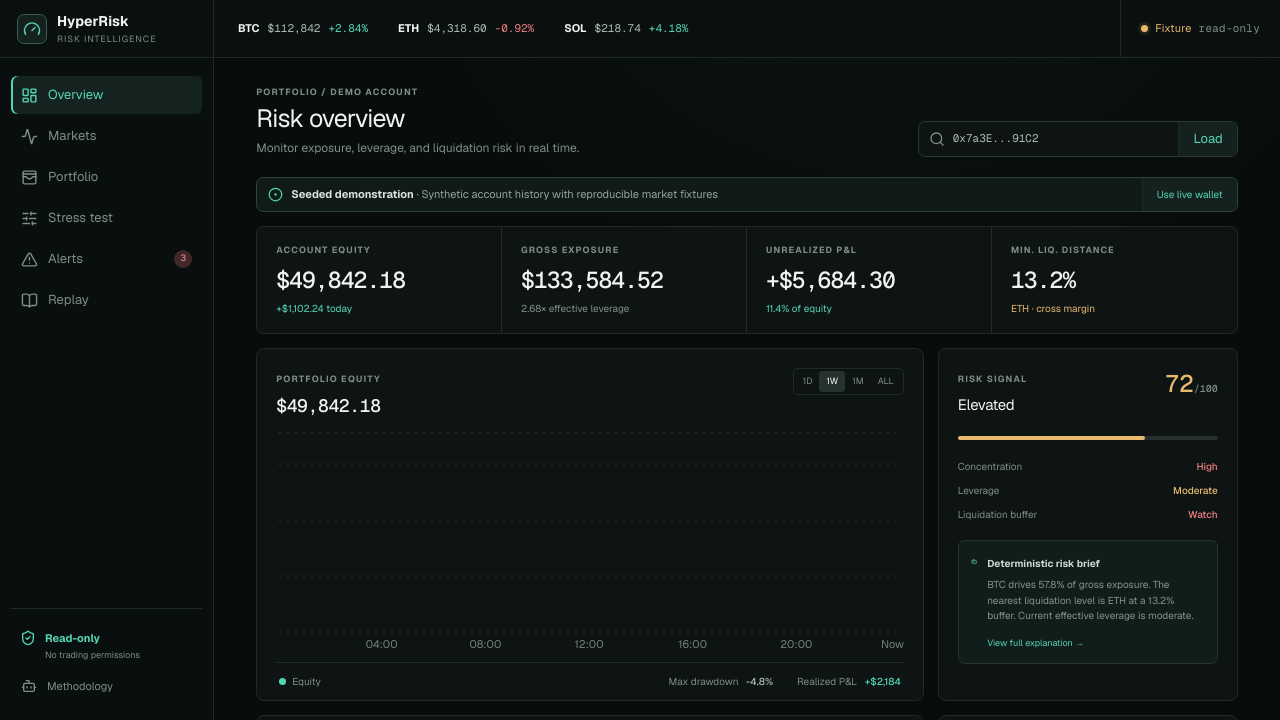
Test: HyperRisk demo workflow › plays the deterministic replay fixture
Click the button "Replay": (106, 300) [11, 281, 202, 319]
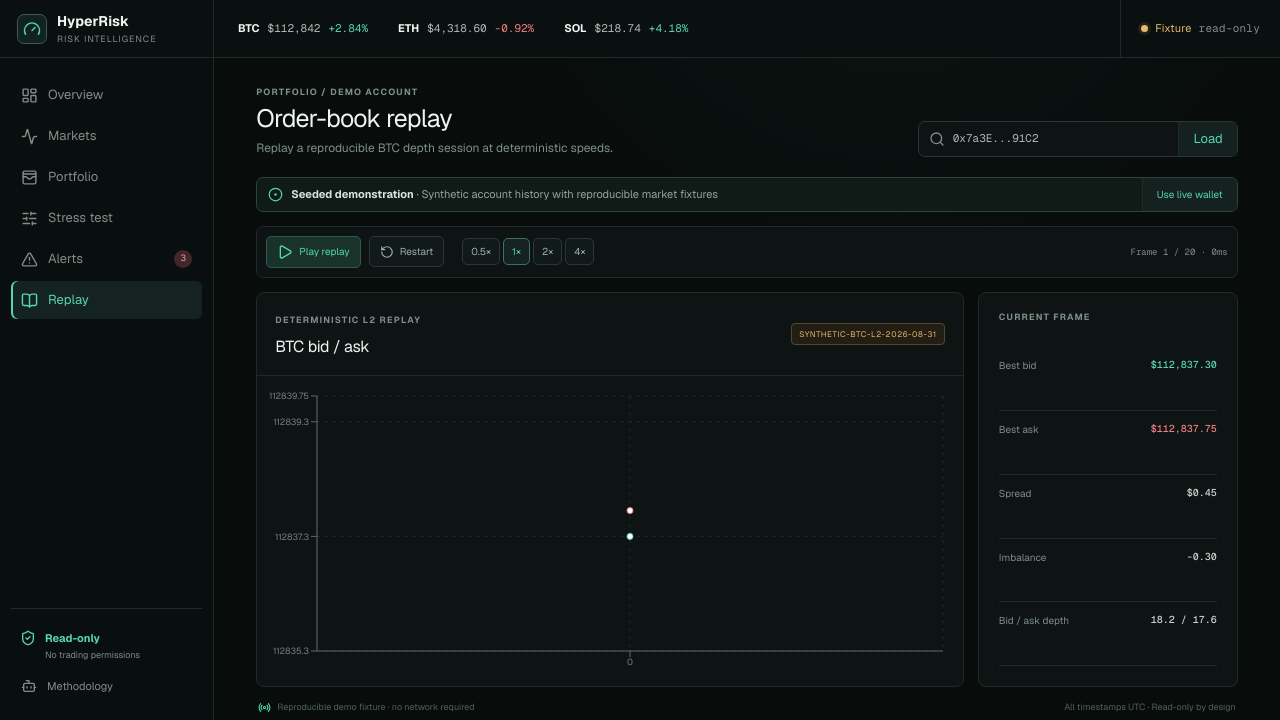
Expected: the text "synthetic-btc-l2-2026-08-31" is shown, [791, 323, 945, 345]
Click the button "Play replay": (313, 252) [266, 236, 361, 268]
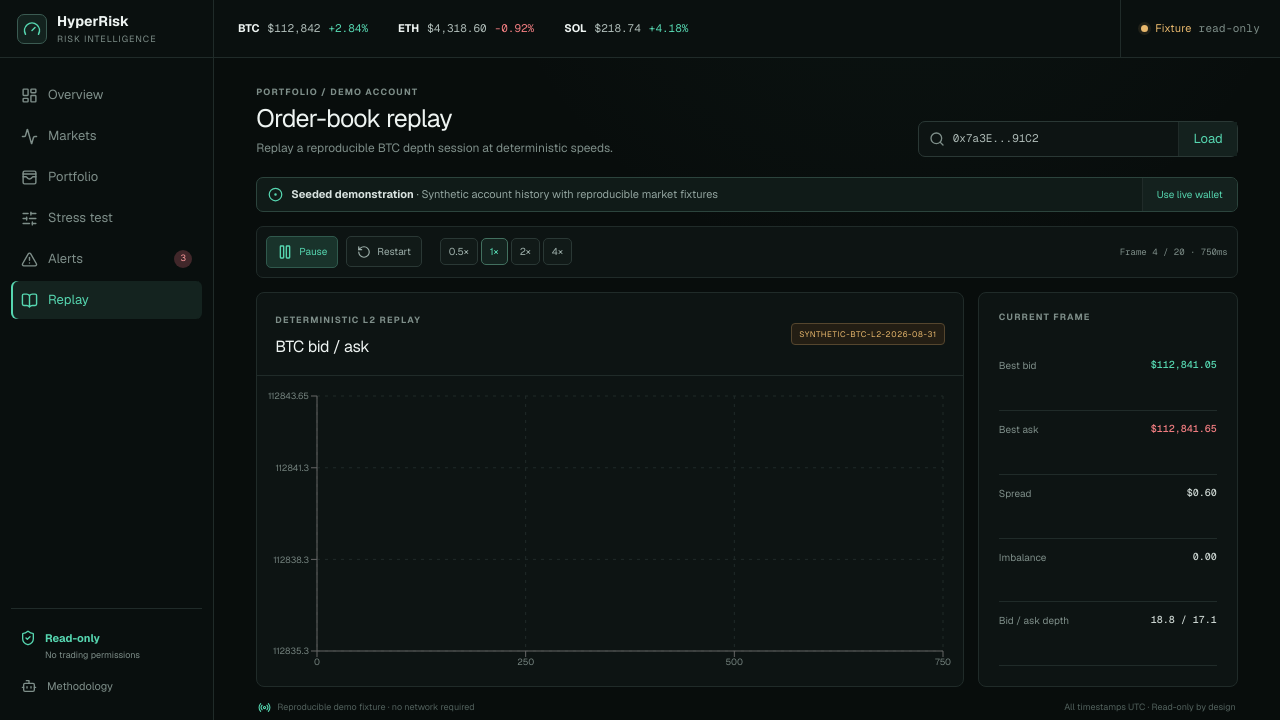
Expected: the button "Pause" is shown, [266, 236, 338, 268]
